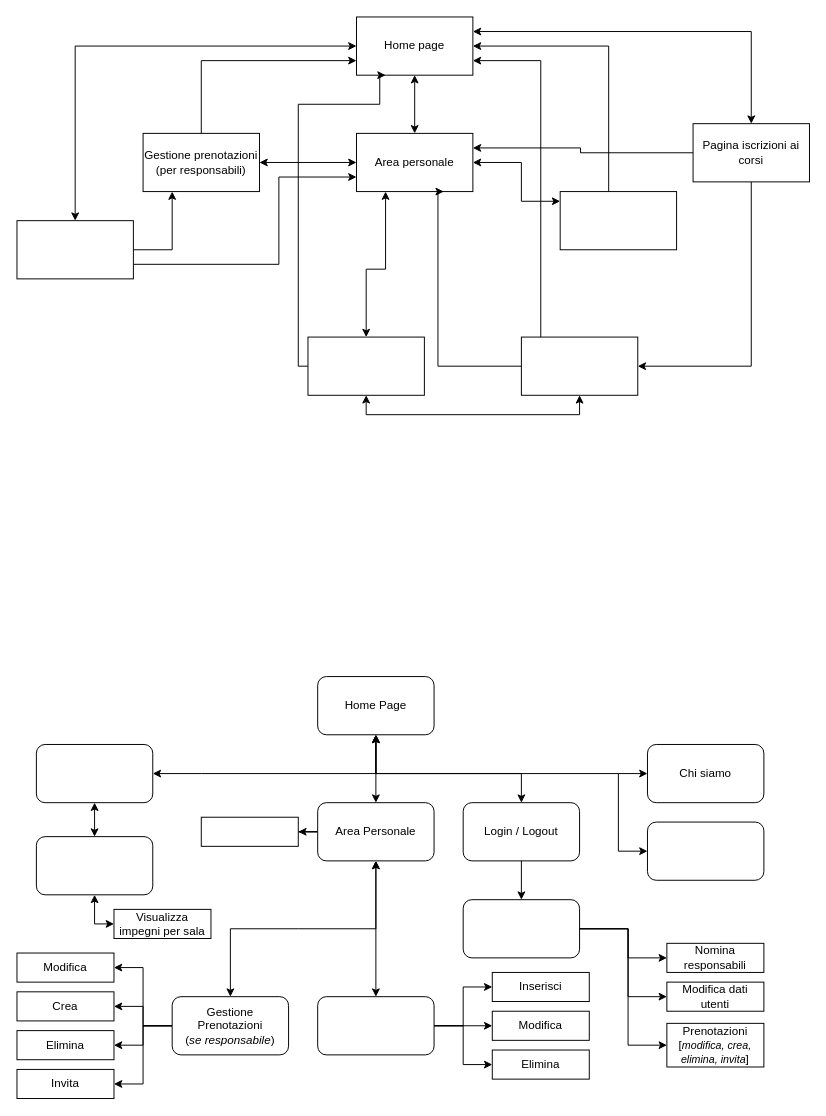
This 826x1116 diagram has some shape labels left out. Here are the shapes that lost their labels. From the top down, the box of each, then its label:
(559, 191, 677, 250): Gestione dati
(16, 220, 133, 279): Sala prove
(307, 336, 424, 395): Login
(520, 336, 638, 395): Registrazione (approvata dalla scuola )
(35, 744, 153, 803): Sale Prova (divise per settore)
(200, 816, 298, 846): Visualizza impegni
(647, 821, 764, 880): Contattaci ( assistenza )
(35, 836, 153, 895): Prenotazioni per sala prova ( per utenti loggati )
(462, 899, 580, 958): Account root ( accesso con root-account)
(317, 996, 434, 1055): Modifica dati Account
